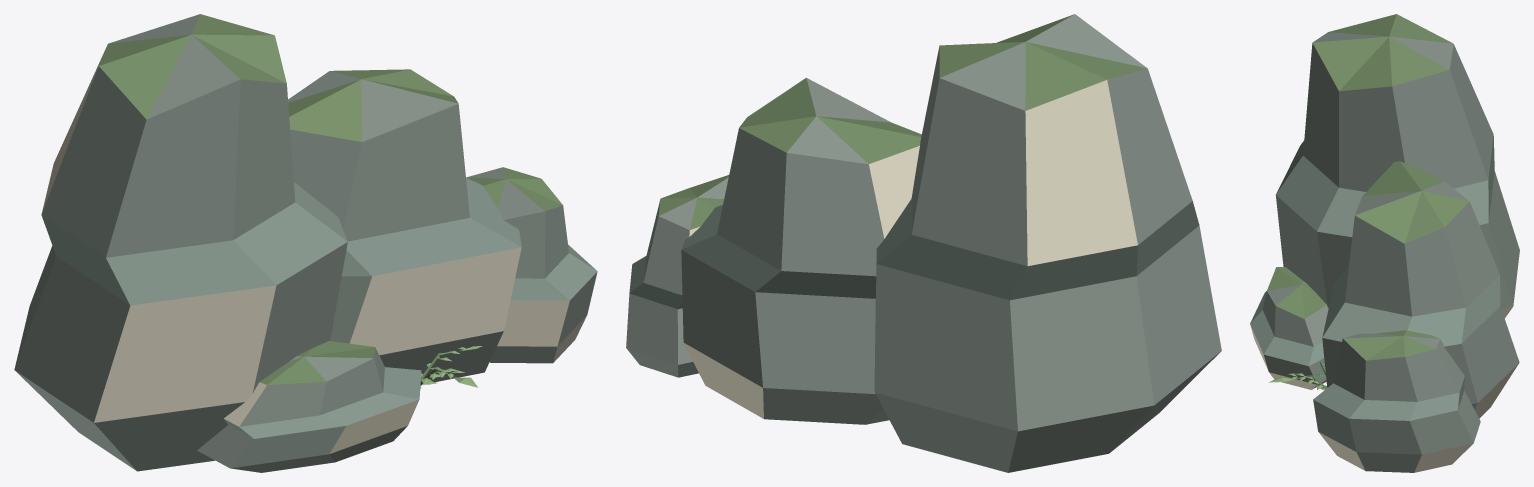
Rendered from rock_stratified_outcrop.glb.
The picture shows the model from 3 angles, left to right: view 1: azimuth 30°, elevation 25°; view 2: azimuth 150°, elevation 25°; view 3: azimuth 270°, elevation 25°; orthographic projection. The views are drawn at different scales.
Parts seen in each view (by area): view 1: rock_stratified_outcrop / mesh; view 2: rock_stratified_outcrop / mesh; view 3: rock_stratified_outcrop / mesh.
Boxes of the visible parts, x1,y1,x2,y2 form: rock_stratified_outcrop / mesh: [14, 14, 597, 472]; rock_stratified_outcrop / mesh: [626, 14, 1221, 472]; rock_stratified_outcrop / mesh: [1250, 14, 1519, 472].
Bounding box in the file's own units: 6.62 × 4.5 × 3.72.
